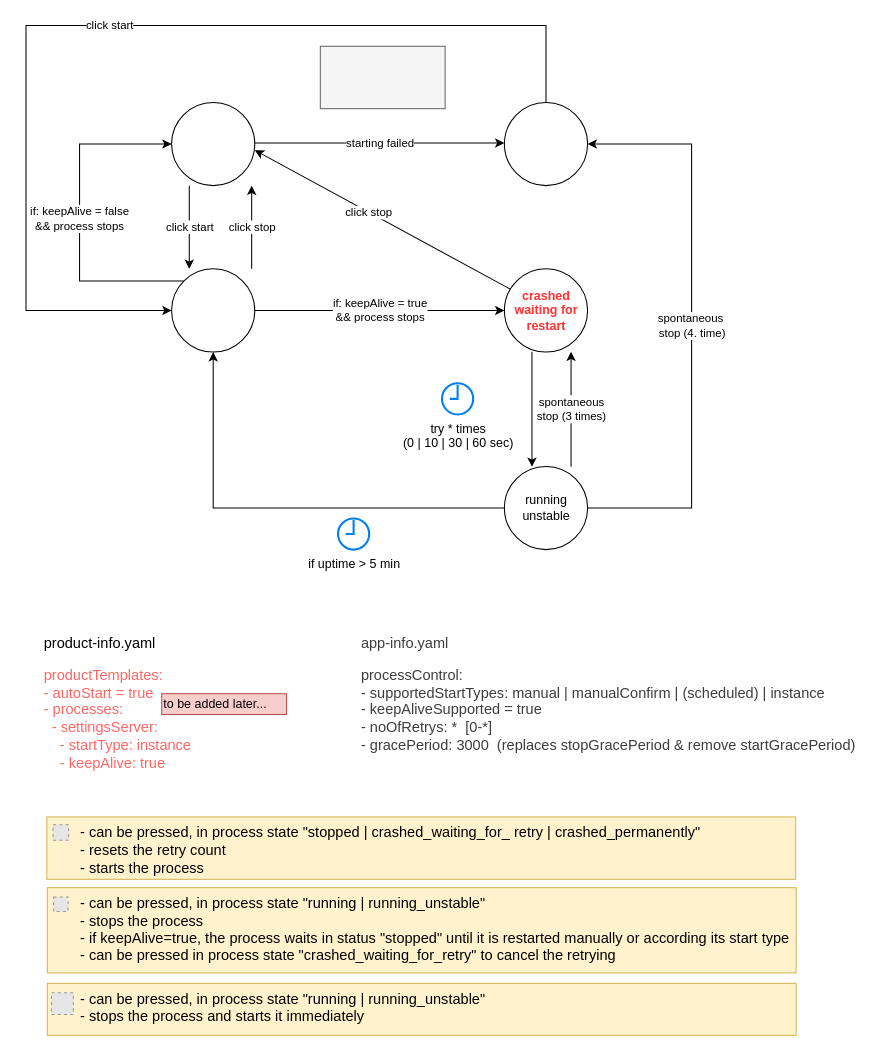
The diagram is 886 pixels wide and 1054 high, and some of its shapes have lost their labels. Grey dashed boxes stand in for pictures. Each missing label, with the centre of its shape:
"crashed permanently" belongs at [545,143].
"e.g. file not executable file not found no access rights" belongs at [382,77].
"running" belongs at [213,310].
"stopped" belongs at [213,143].
